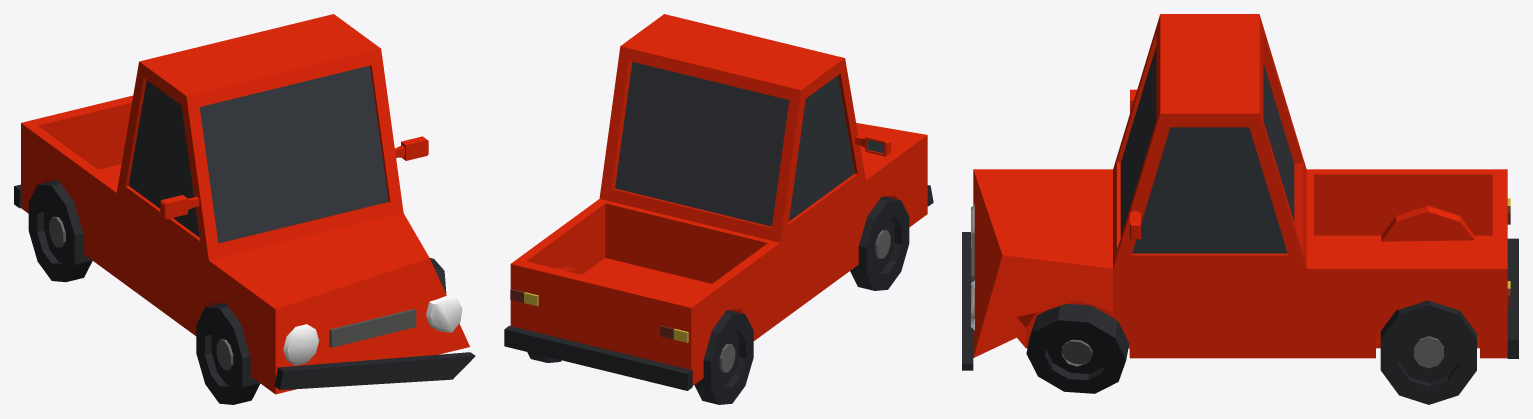
File: Crashed Car_2.fbx
3 views of the same model, side by side, from view 1: azimuth 30°, elevation 25°; view 2: azimuth 150°, elevation 25°; view 3: azimuth 270°, elevation 25° (orthographic). The views are drawn at different scales.
Visible parts, largest first — view 1: Crashed Car_2; view 2: Crashed Car_2; view 3: Crashed Car_2.
Boxes of the visible parts, left/top/right/bottom form: Crashed Car_2: left=14, top=14, right=475, bottom=404; Crashed Car_2: left=504, top=14, right=933, bottom=404; Crashed Car_2: left=962, top=14, right=1518, bottom=404.
Bounding box in the file's own units: 262 × 262 × 456.
